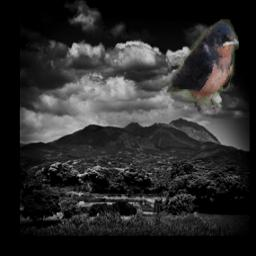Swallow: (167, 19, 240, 114)
